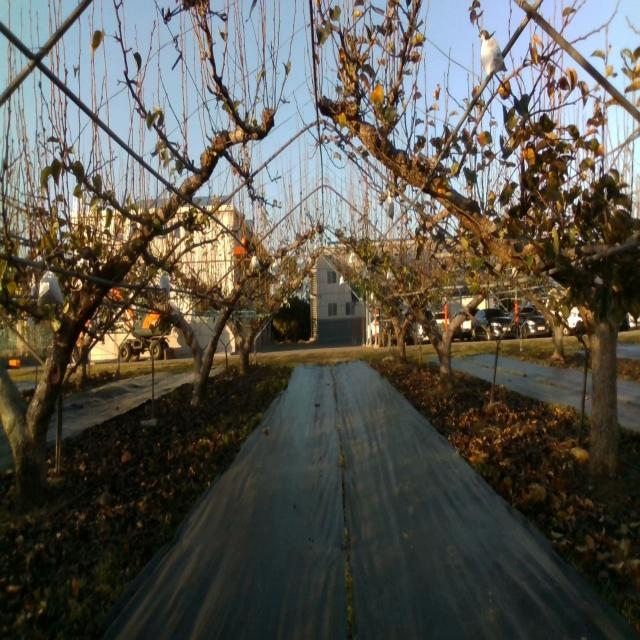pearbags: (479, 33, 509, 79), (36, 270, 65, 308), (160, 275, 172, 299), (250, 255, 260, 272)
